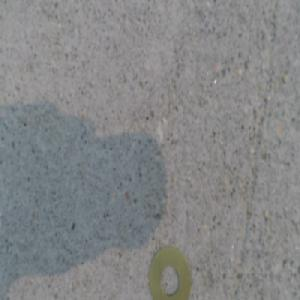Washer: (149, 244, 189, 299)
